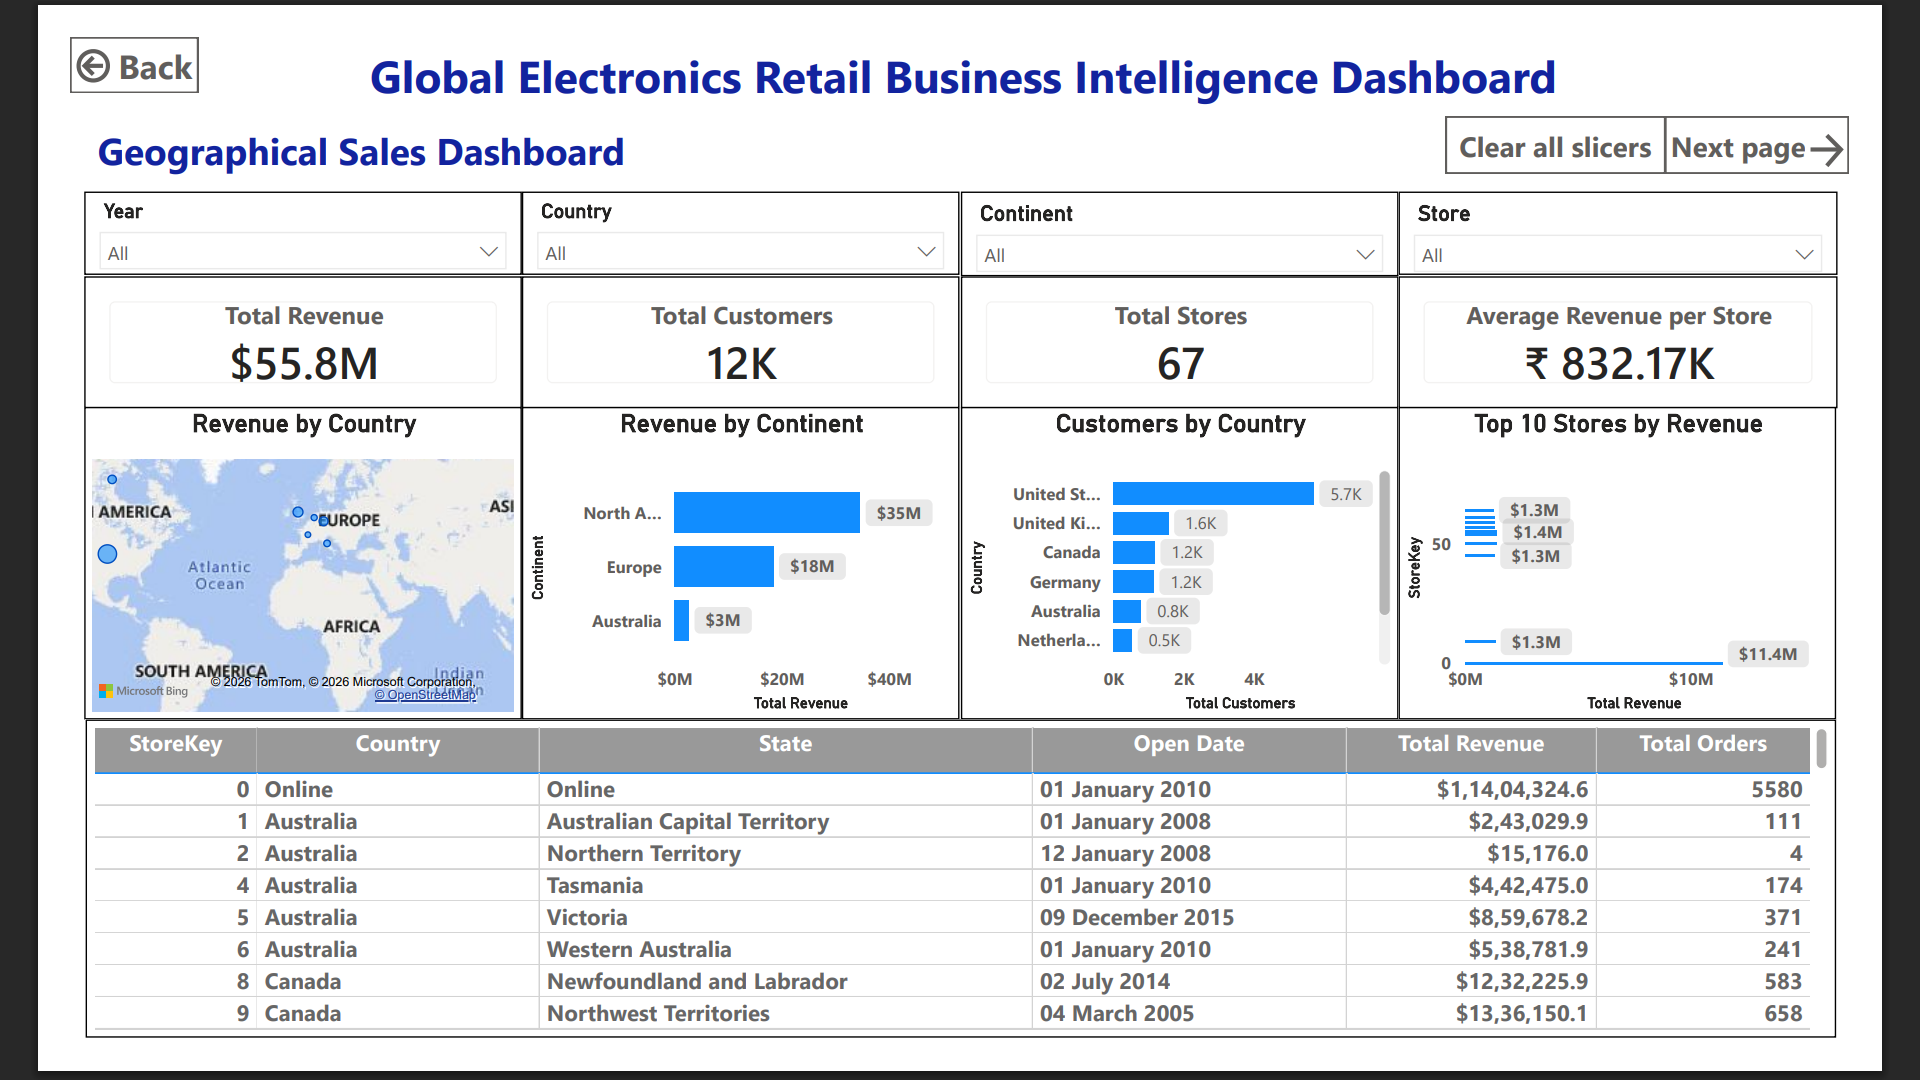

Layout of this report page (visuals, bound fields, positions):
{"tool":"powerbi","page":{"name":"Geographical Sales","canvas":[1280,720],"ordinal":4},"visuals":[{"type":"textbox","box":[197.6,0,890.6,57.6],"z":0},{"type":"textbox","box":[9.6,57.6,399.3,53.5],"z":1000},{"type":"slicer","fields":{"Values":["Calendar.Year"]},"box":[9.8,111.3,315,60],"z":2000},{"type":"slicer","fields":{"Values":["Customers.Country"]},"box":[325.2,111.1,315,60],"z":3000},{"type":"slicer","fields":{"Values":["Customers.Continent"]},"box":[640.8,111.1,315.6,60.4],"z":4000},{"type":"slicer","fields":{"Values":["Stores.StoreKey"]},"box":[956.4,111.1,315.6,60],"z":5000},{"type":"cardVisual","fields":{"Data":["Sales.Total Revenue"]},"box":[9.6,171.5,315,95],"z":6000},{"type":"cardVisual","fields":{"Data":["Sales.Total Customers"]},"box":[325.2,171.5,315,95],"z":7000},{"type":"cardVisual","fields":{"Data":["Stores.Total Stores"]},"box":[640.8,171.5,315.6,95],"z":8000},{"type":"cardVisual","fields":{"Data":["Stores.Average Revenue per Store"]},"box":[956.4,171.5,315.6,95],"z":9000},{"type":"map","title":"Revenue by Country","fields":{"Category":["Customers.Country"],"Size":["Sales.Total Revenue"]},"box":[9.6,266.2,315.6,225],"z":10000},{"type":"clusteredBarChart","title":"Revenue by Continent","fields":{"Category":["Customers.Continent"],"Y":["Sales.Total Revenue"]},"box":[325.2,266.2,315,225],"z":11000},{"type":"clusteredBarChart","title":"Customers by Country","fields":{"Y":["Sales.Total Customers"],"Category":["Customers.Country"]},"box":[640.8,266.2,315,225],"z":12000},{"type":"clusteredBarChart","title":"Top 10 Stores by Revenue","fields":{"Category":["Stores.StoreKey"],"Y":["Sales.Total Revenue"]},"box":[956.4,266.2,315,225],"z":13000},{"type":"tableEx","fields":{"Values":["Stores.StoreKey","Stores.Country","Stores.State","Stores.Open Date","Sales.Total Revenue","Sales.Total Orders"]},"box":[11,491.3,1260,229],"z":14000},{"type":"actionButton","box":[0,0,91.7,40.4],"z":15000},{"type":"actionButton","box":[1148.2,57.5,132.1,40.4],"z":16000},{"type":"actionButton","box":[990.5,57.5,157.7,40.4],"z":17000}]}

Visuals, with their boxes in screenshot pixels (x1, y1, x2, y2), scaled from the page's 1280x720 canvas onto the 1920x1080 screenshot:
textbox: 296:0:1632:86
textbox: 14:86:613:167
slicer - Calendar.Year: 15:167:487:257
slicer - Customers.Country: 488:167:960:257
slicer - Customers.Continent: 961:167:1435:257
slicer - Stores.StoreKey: 1435:167:1908:257
cardVisual - Sales.Total Revenue: 14:257:487:400
cardVisual - Sales.Total Customers: 488:257:960:400
cardVisual - Stores.Total Stores: 961:257:1435:400
cardVisual - Stores.Average Revenue per Store: 1435:257:1908:400
"Revenue by Country" map: 14:399:488:737
"Revenue by Continent" clusteredBarChart: 488:399:960:737
"Customers by Country" clusteredBarChart: 961:399:1434:737
"Top 10 Stores by Revenue" clusteredBarChart: 1435:399:1907:737
tableEx - Stores.StoreKey x Stores.Country: 16:737:1906:1079
actionButton: 0:0:138:61
actionButton: 1722:86:1919:147
actionButton: 1486:86:1722:147
